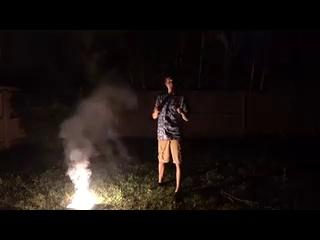Fire: (64, 148, 99, 209)
